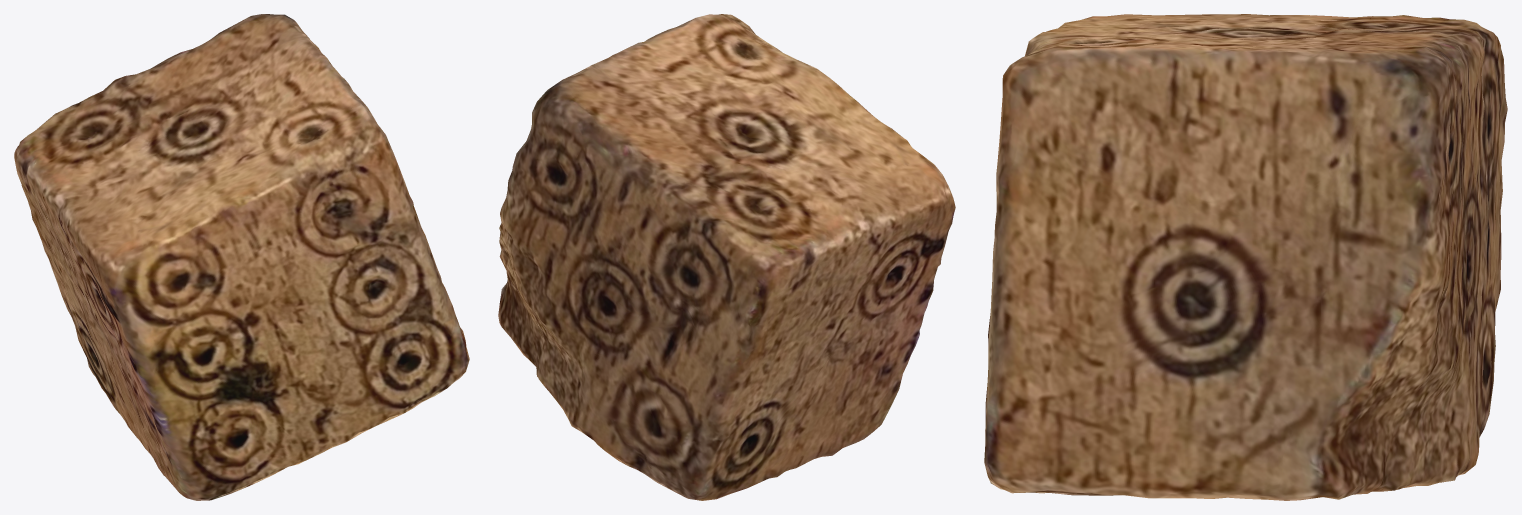
The model's file is bone_die.glb.
3 views of the same model, side by side, from view 1: azimuth 30°, elevation 25°; view 2: azimuth 150°, elevation 25°; view 3: azimuth 270°, elevation 25° (orthographic). The views are drawn at different scales.
Visible parts, largest first — view 1: MeshTransform; view 2: MeshTransform; view 3: MeshTransform.
Boxes of the visible parts, x1,y1,x2,y2 form: MeshTransform: (14, 14, 469, 500); MeshTransform: (498, 14, 955, 500); MeshTransform: (984, 14, 1507, 500).
Size of the model in its own units: 0.1072 by 0.1032 by 0.0923.
1 material, 1 textured.
